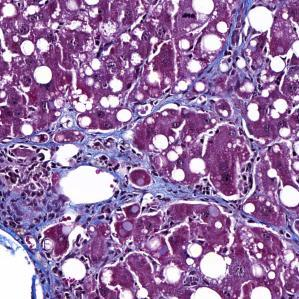fibrosis: (118, 152, 220, 215), (3, 128, 134, 170), (36, 235, 114, 298), (195, 43, 262, 115), (0, 183, 69, 237)
